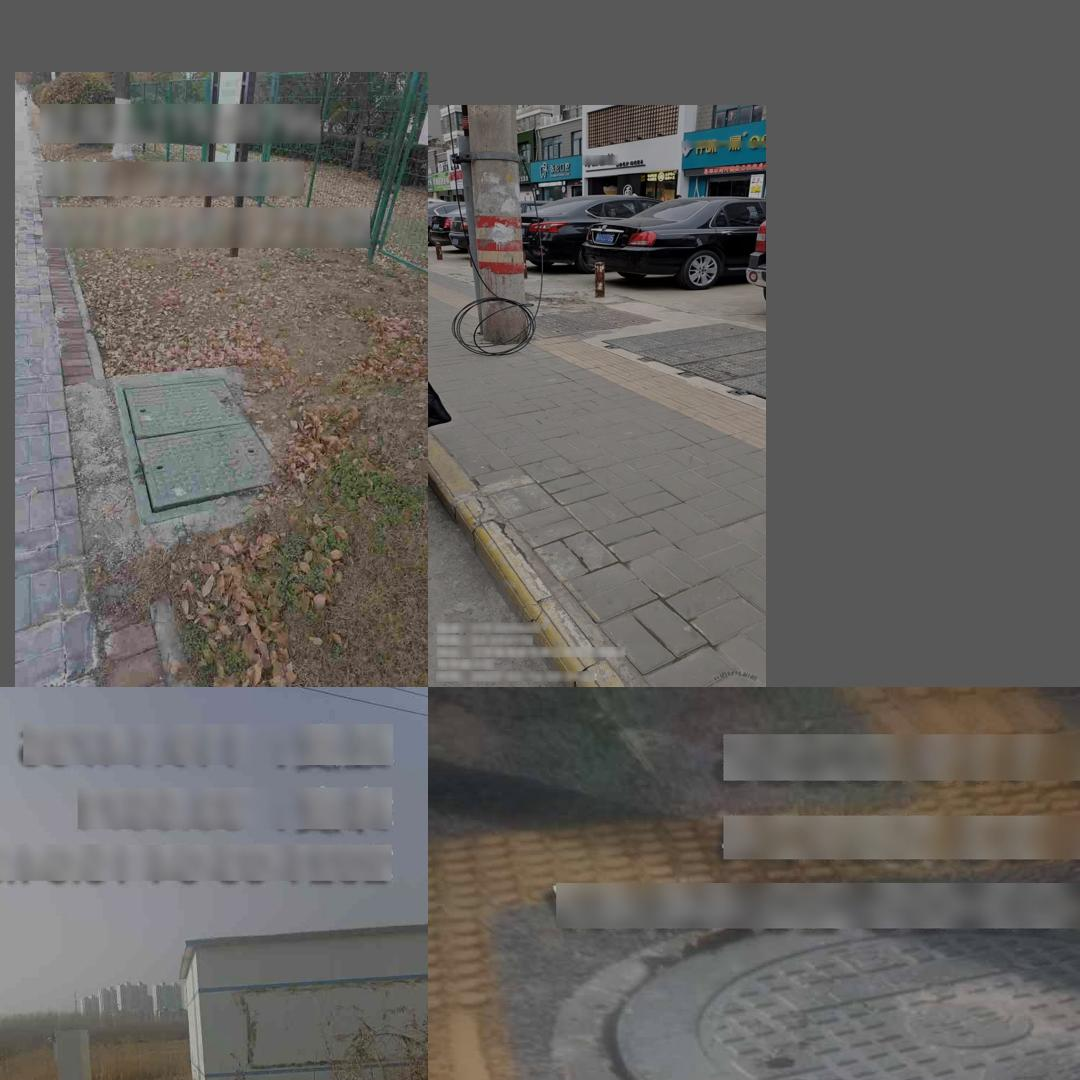good: (608, 912, 1080, 1080), (113, 375, 294, 514), (599, 320, 766, 405), (529, 305, 658, 340)
